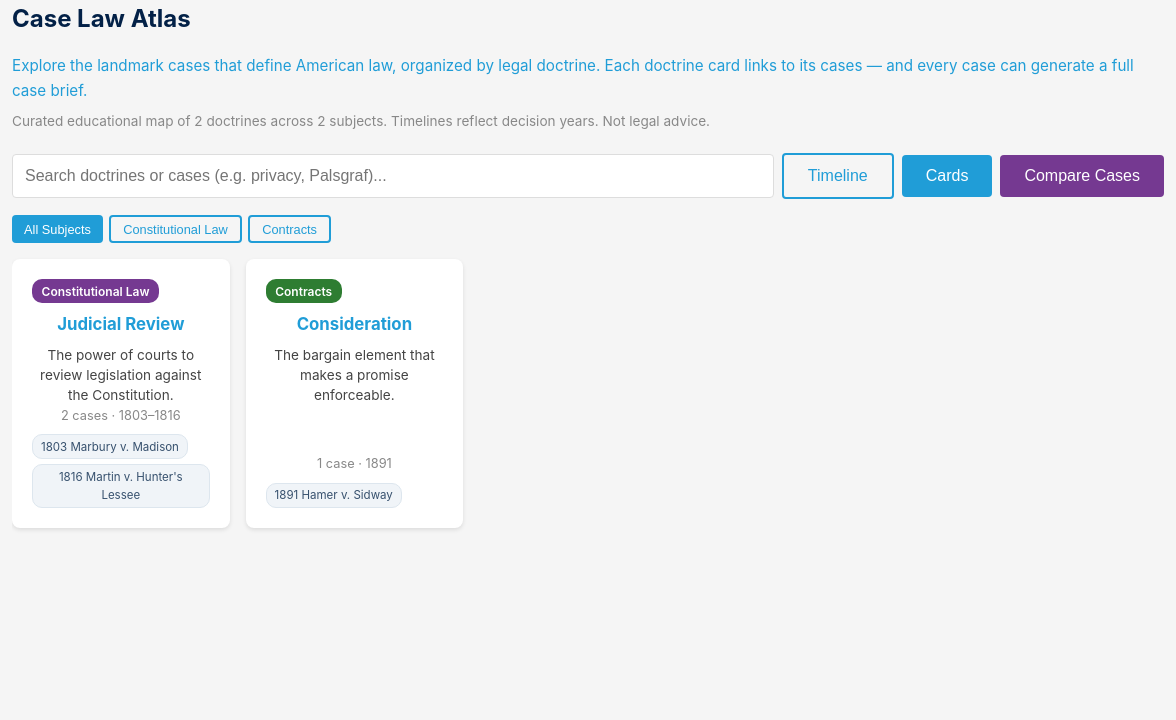
Test case: DoctrineExplorerView › keeps scoped cases in the picker when the search matches only doctrine text
Type "Constitution" into the field with placeholder "Search doctrines or cases (e.g. privacy, Palsgraf)..." at {"x": 393, "y": 176}, box top-left (12, 154), bottom-right (774, 198)
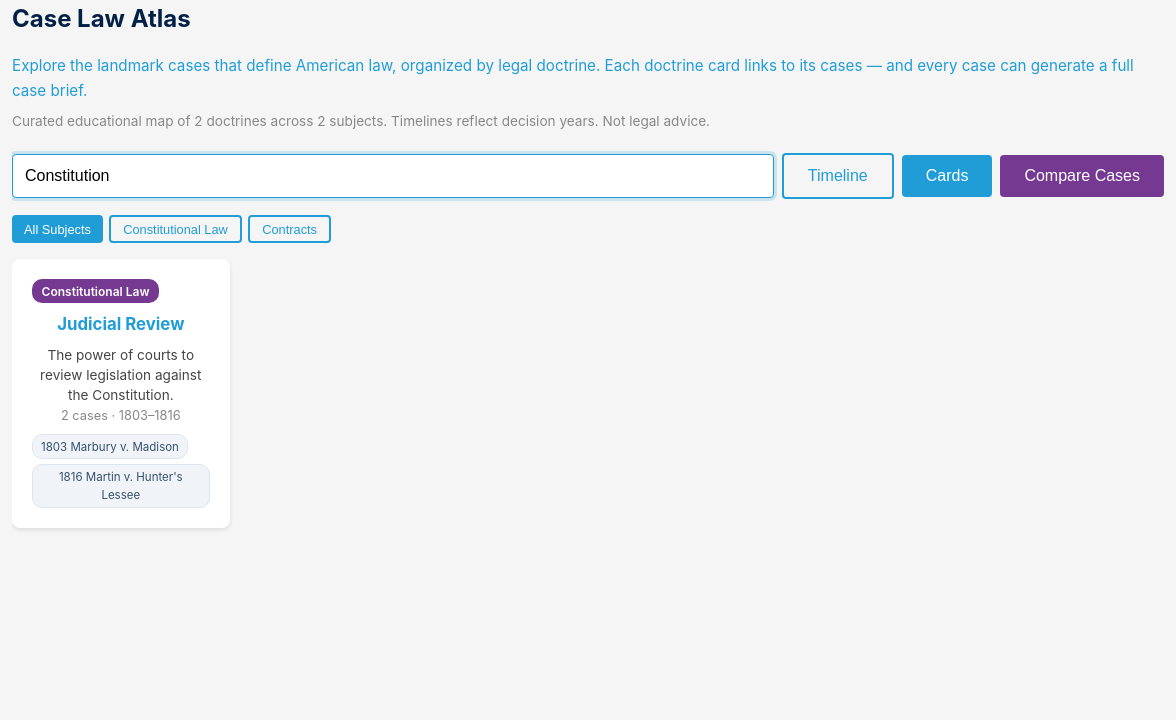
Click the button "Compare Cases" at {"x": 1082, "y": 176}, box top-left (1000, 155), bottom-right (1164, 197)
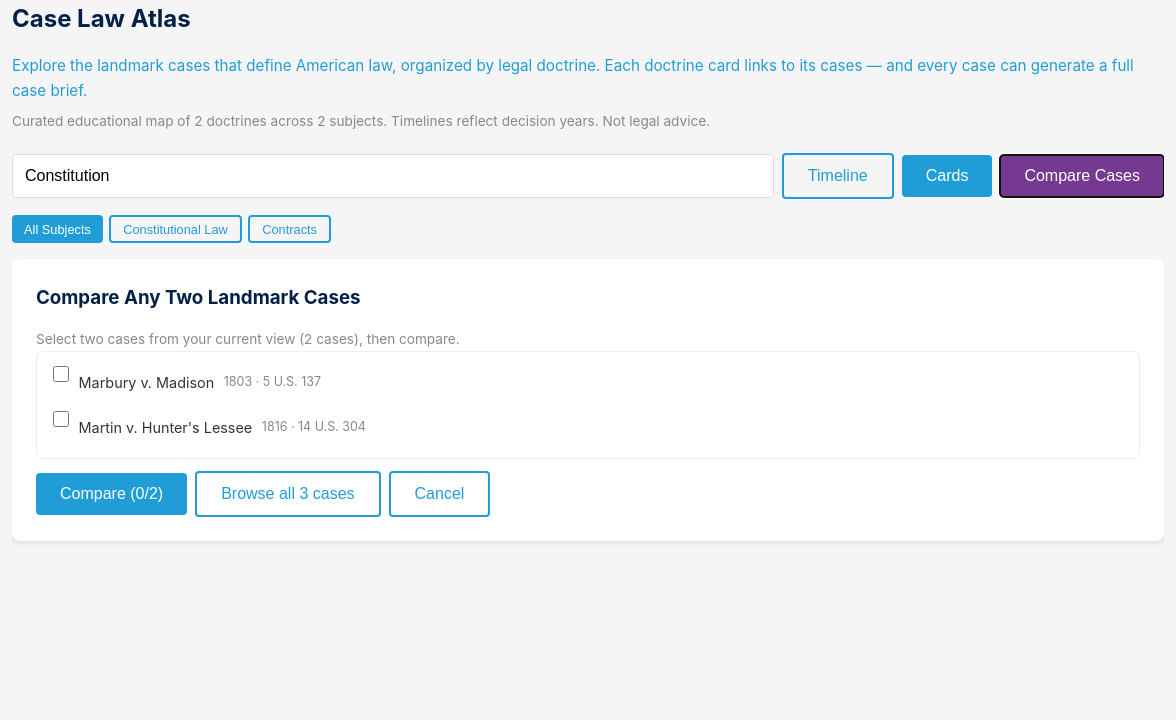
Expected: the text "current view (2 cases)" is shown, top-left (36, 331), bottom-right (460, 347)
Expected: the checkbox labelled "Marbury v. Madison 1803 · 5 U.S. 137" is shown, top-left (53, 366), bottom-right (69, 382)
Expected: the checkbox labelled "Martin v. Hunter's Lessee 1816 · 14 U.S. 304" is shown, top-left (53, 411), bottom-right (69, 427)
